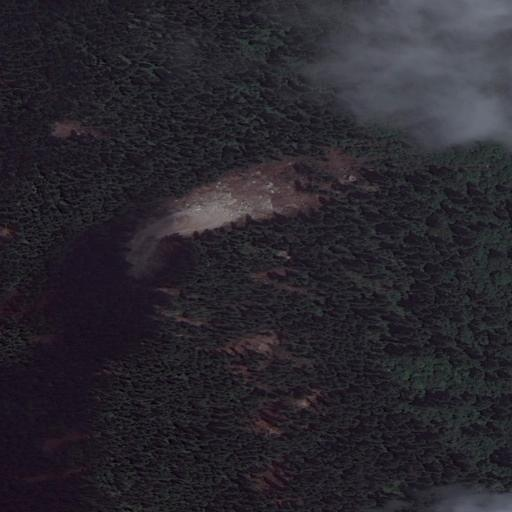landslide: (137, 149, 349, 240)
